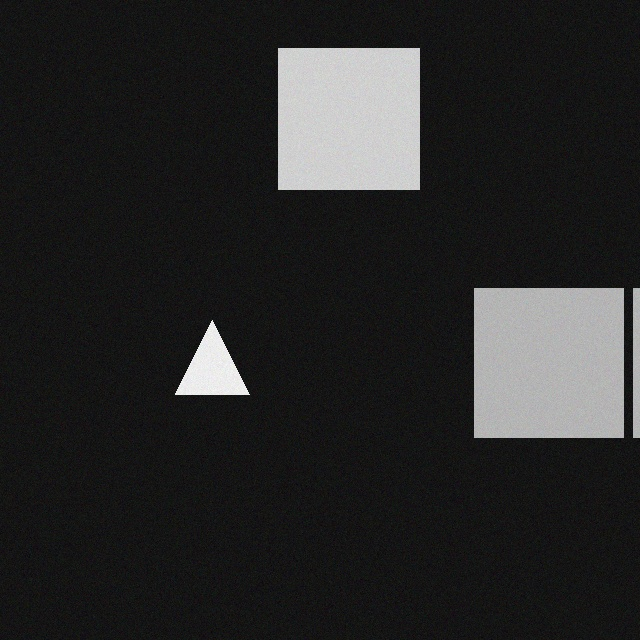square: (485, 293, 634, 442), (289, 53, 430, 194)
triangle: (186, 325, 260, 399)
